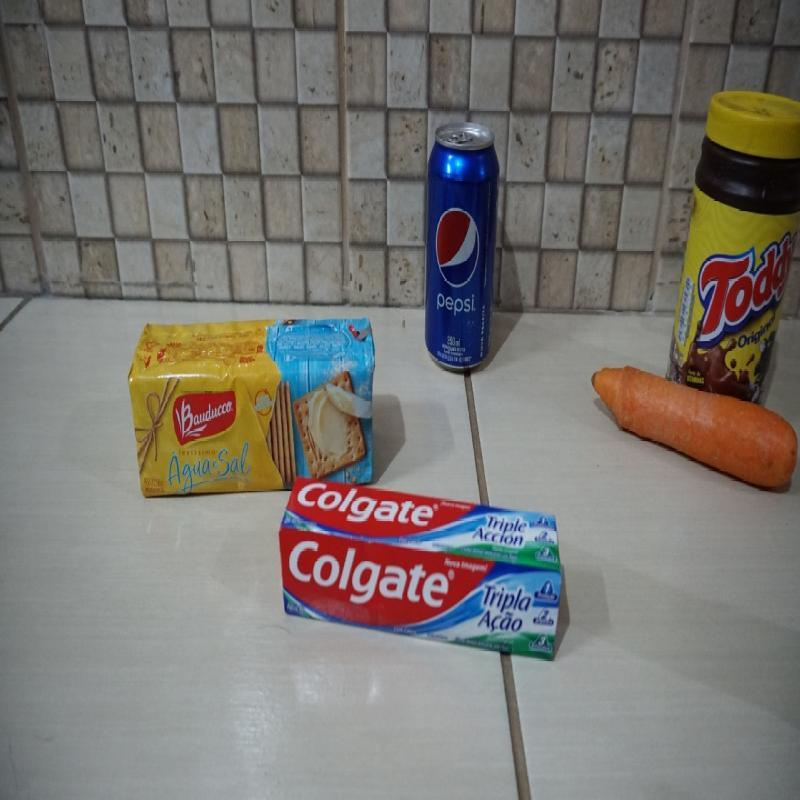Carrot: (587, 358, 795, 494)
Chocolate Powder: (677, 88, 800, 354)
Cracker: (129, 319, 380, 478)
Soda can: (423, 124, 497, 378)
Toothpaste: (280, 478, 569, 662)
